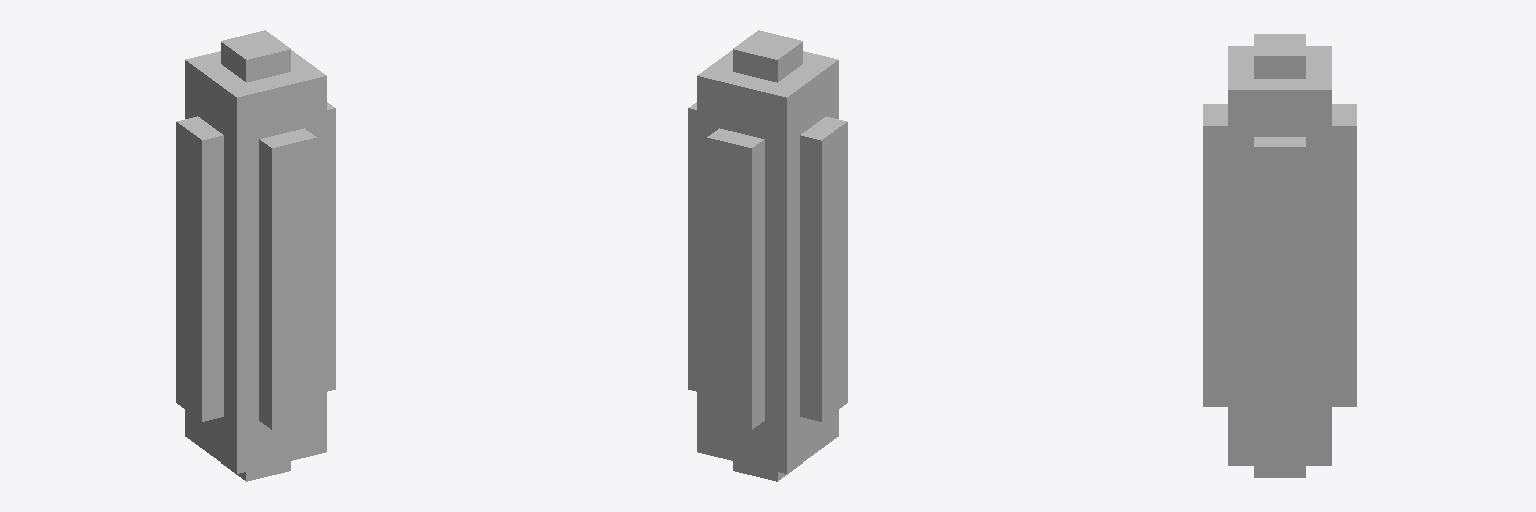
Rendered from Monalith.obj.
3 renders of one model, left to right at view 1: azimuth 30°, elevation 25°; view 2: azimuth 150°, elevation 25°; view 3: azimuth 270°, elevation 25°, orthographic.
Visible parts, largest first — view 1: Cube; view 2: Cube; view 3: Cube.
Part boxes in pixels (left/top/right/bottom): Cube: left=176, top=30, right=335, bottom=481; Cube: left=688, top=30, right=847, bottom=481; Cube: left=1203, top=34, right=1356, bottom=477.
Bounding box in the file's own units: 1.85 × 5.6 × 1.85.